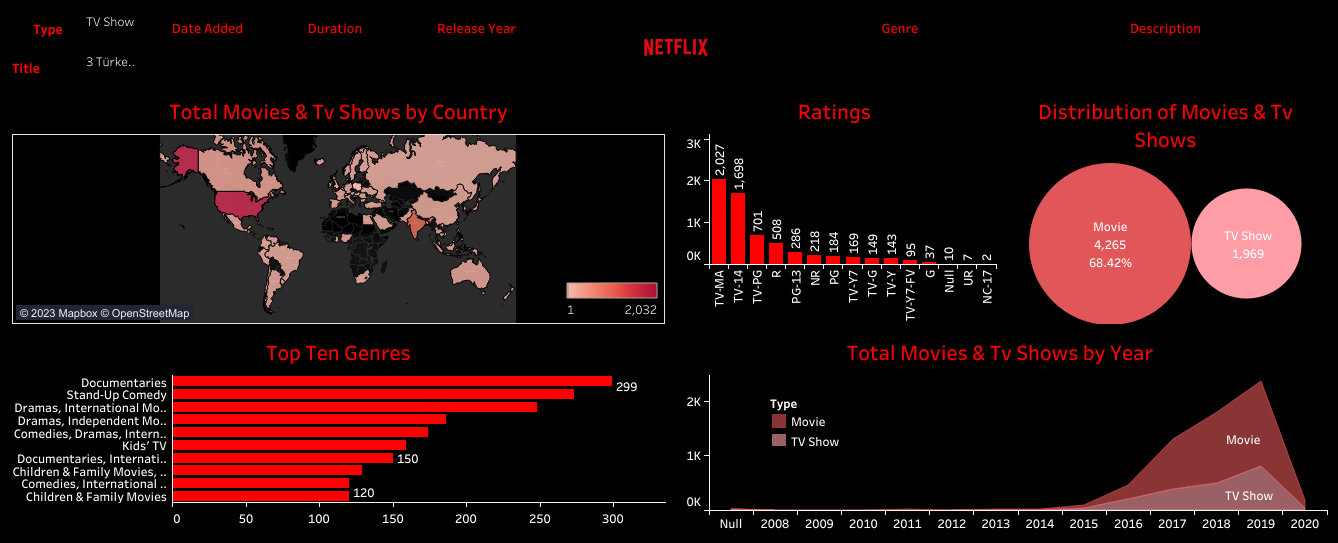

The dashboard page shown, as its layout file describes it:
{"tool":"tableau","page":{"name":"Netflix","canvas":[1000,1000],"units":"permille","ordinal":0},"visuals":[{"type":"filter","title":"Description","param":"[federated.0qjiiqm0zb8b6t167u6vx1yxrhq1].[none:type:nk]","box":[6.9,13.7,103,72.8]},{"type":"worksheet","title":"Date Added","mark":"Automatic","box":[110,13.7,91.8,145.6]},{"type":"worksheet","title":"Duration","mark":"Automatic","box":[201.7,13.7,97.8,145.6]},{"type":"worksheet","title":"Release Year","mark":"Automatic","box":[299.6,13.7,112.5,145.6]},{"type":"image","param":"Image/download.png","box":[412.1,13.7,185.4,145.6]},{"type":"worksheet","title":"Genre","mark":"Automatic","box":[597.6,13.7,149,145.6]},{"type":"worksheet","title":"Description","mark":"Automatic","box":[746.5,13.7,246.5,145.6]},{"type":"filter","title":"Description","param":"[federated.0qjiiqm0zb8b6t167u6vx1yxrhq1].[none:title:nk]","box":[6.9,86.5,103,72.8]},{"type":"worksheet","title":"Total Movies & Tv Shows by Country","mark":"Multipolygon","box":[6.9,159.2,493,444.1]},{"type":"worksheet","title":"Ratings","mark":"Automatic","rows":["show_id"],"cols":["rating"],"box":[500,159.2,246.5,444.1]},{"type":"worksheet","title":"Distribution of Movies & Tv Shows","mark":"Circle","box":[746.5,159.2,246.6,444.1]},{"type":"legend","title":"Total Movies & Tv Shows by Country","param":"[federated.0qjiiqm0zb8b6t167u6vx1yxrhq1].[ctd:show_id:qk]","box":[420.8,513.7,73.6,68.5]},{"type":"worksheet","title":"Top Ten Genres","mark":"Automatic","rows":["listed_in"],"cols":["show_id"],"box":[6.9,603.4,493,382.9]},{"type":"worksheet","title":"Total Movies & Tv Shows by Year","mark":"Area","rows":["show_id"],"cols":["date_added"],"box":[500,603.4,493.1,382.9]},{"type":"legend","title":"Total Movies & Tv Shows by Year","param":"[federated.0qjiiqm0zb8b6t167u6vx1yxrhq1].[none:type:nk]","box":[574,720.9,121.2,99.3]}]}

Visuals, with their boxes on the dashboard's canvas, which has no fixed pixel size, in thousandths of its width and height (x1, y1, x2, y2). These are canvas units, not pixel positions in the 1338x543 screenshot, which may show the page scaled, cropped or inside an application window:
"Description" filter: box(7, 14, 110, 86)
"Date Added" worksheet: box(110, 14, 202, 159)
"Duration" worksheet: box(202, 14, 300, 159)
"Release Year" worksheet: box(300, 14, 412, 159)
image: box(412, 14, 598, 159)
"Genre" worksheet: box(598, 14, 747, 159)
"Description" worksheet: box(746, 14, 993, 159)
"Description" filter: box(7, 86, 110, 159)
"Total Movies & Tv Shows by Country" worksheet (Multipolygon marks): box(7, 159, 500, 603)
"Ratings" worksheet: box(500, 159, 746, 603)
"Distribution of Movies & Tv Shows" worksheet (Circle marks): box(746, 159, 993, 603)
"Total Movies & Tv Shows by Country" legend: box(421, 514, 494, 582)
"Top Ten Genres" worksheet: box(7, 603, 500, 986)
"Total Movies & Tv Shows by Year" worksheet (Area marks): box(500, 603, 993, 986)
"Total Movies & Tv Shows by Year" legend: box(574, 721, 695, 820)
